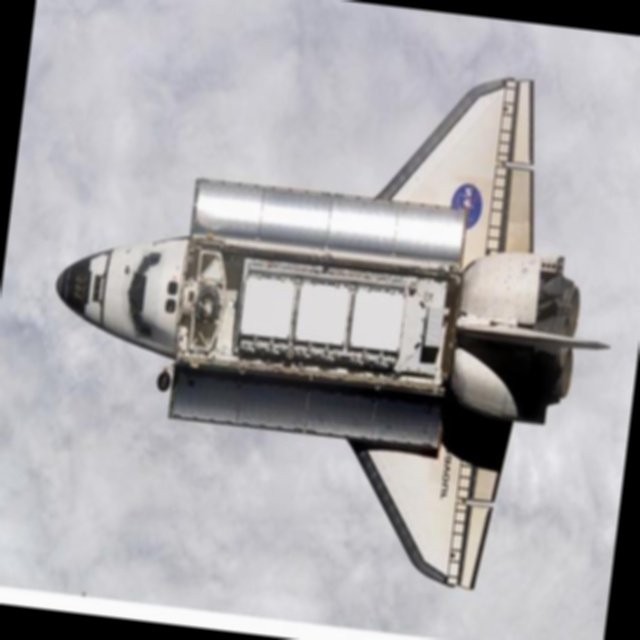medium_debris: (27, 25, 623, 601)
